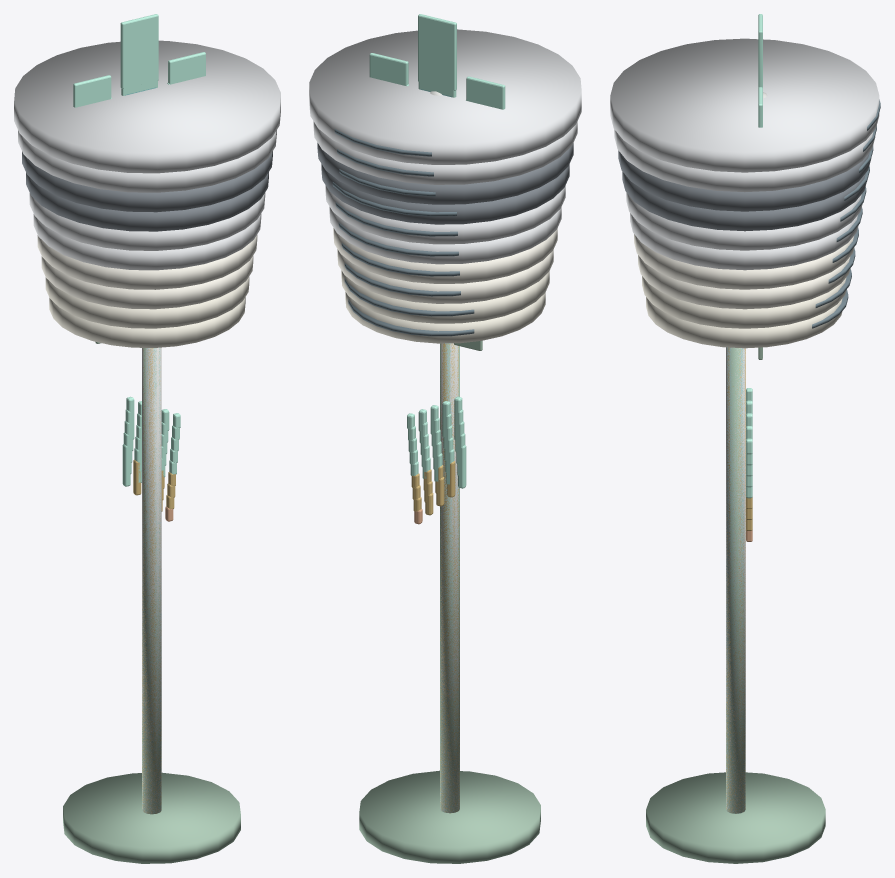
The model's file is Gear14.fbx.
The picture shows the model from 3 angles, left to right: view 1: azimuth 30°, elevation 25°; view 2: azimuth 150°, elevation 25°; view 3: azimuth 270°, elevation 25°; orthographic projection. The views are drawn at different scales.
Visible parts, largest first — view 1: Gear14_V10_Platinum, Gear14_V1_Sage, Gear14_V10_Glow, Gear14_V9_Platinum, Gear14_V8_Graphite, Gear14_V7_Graphite, Gear14_V6_Platinum, Gear14_V5_Platinum, Gear14_V4_Linen, Gear14_V3_Linen, Gear14_V2_Ivory, Gear14_V1_Ivory (+11 smaller); view 2: Gear14_V10_Platinum, Gear14_V1_Sage, Gear14_V10_Glow, Gear14_V9_Platinum, Gear14_V8_Graphite, Gear14_V7_Graphite, Gear14_V6_Platinum, Gear14_V5_Platinum, Gear14_V10_Gold, Gear14_V4_Linen, Gear14_V3_Linen, Gear14_V2_Ivory (+19 smaller); view 3: Gear14_V10_Platinum, Gear14_V1_Sage, Gear14_V9_Platinum, Gear14_V8_Graphite, Gear14_V7_Graphite, Gear14_V6_Platinum, Gear14_V5_Platinum, Gear14_V4_Linen, Gear14_V3_Linen, Gear14_V2_Ivory, Gear14_V1_Ivory, Gear14_V3_Blue (+7 smaller).
Part boxes in pixels (<box>): Gear14_V10_Platinum: <box>14,40,280,173</box>; Gear14_V1_Sage: <box>63,341,240,863</box>; Gear14_V10_Glow: <box>73,14,205,439</box>; Gear14_V9_Platinum: <box>18,130,276,192</box>; Gear14_V8_Graphite: <box>22,151,272,212</box>; Gear14_V7_Graphite: <box>26,172,268,231</box>; Gear14_V6_Platinum: <box>29,193,265,250</box>; Gear14_V5_Platinum: <box>33,214,261,270</box>; Gear14_V4_Linen: <box>37,234,257,289</box>; Gear14_V3_Linen: <box>41,255,253,309</box>; Gear14_V2_Ivory: <box>45,276,249,328</box>; Gear14_V1_Ivory: <box>49,297,245,347</box>; Gear14_V10_Platinum: <box>309,29,581,164</box>; Gear14_V1_Sage: <box>359,340,540,863</box>; Gear14_V10_Glow: <box>369,14,505,440</box>; Gear14_V9_Platinum: <box>313,121,577,184</box>; Gear14_V8_Graphite: <box>317,142,573,204</box>; Gear14_V7_Graphite: <box>321,164,569,224</box>; Gear14_V6_Platinum: <box>325,185,565,244</box>; Gear14_V5_Platinum: <box>329,206,561,264</box>; Gear14_V10_Gold: <box>440,343,459,813</box>; Gear14_V4_Linen: <box>333,228,557,283</box>; Gear14_V3_Linen: <box>337,249,553,303</box>; Gear14_V2_Ivory: <box>341,270,549,323</box>; Gear14_V10_Platinum: <box>610,38,879,172</box>; Gear14_V1_Sage: <box>646,347,825,863</box>; Gear14_V9_Platinum: <box>614,129,875,192</box>; Gear14_V8_Graphite: <box>618,150,870,211</box>; Gear14_V7_Graphite: <box>622,171,866,231</box>; Gear14_V6_Platinum: <box>626,192,862,250</box>; Gear14_V5_Platinum: <box>630,213,858,270</box>; Gear14_V4_Linen: <box>634,234,854,289</box>; Gear14_V3_Linen: <box>638,255,850,309</box>; Gear14_V2_Ivory: <box>642,276,846,328</box>; Gear14_V1_Ivory: <box>646,297,842,348</box>; Gear14_V3_Blue: <box>726,347,745,812</box>.
Bounding box in the file's own units: 59.84 × 197 × 60.12.
